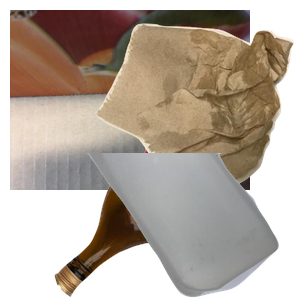cardboard: (10, 10, 250, 190)
glass: (52, 147, 292, 300)
plastic: (84, 153, 300, 300)
trash: (92, 21, 300, 201)
